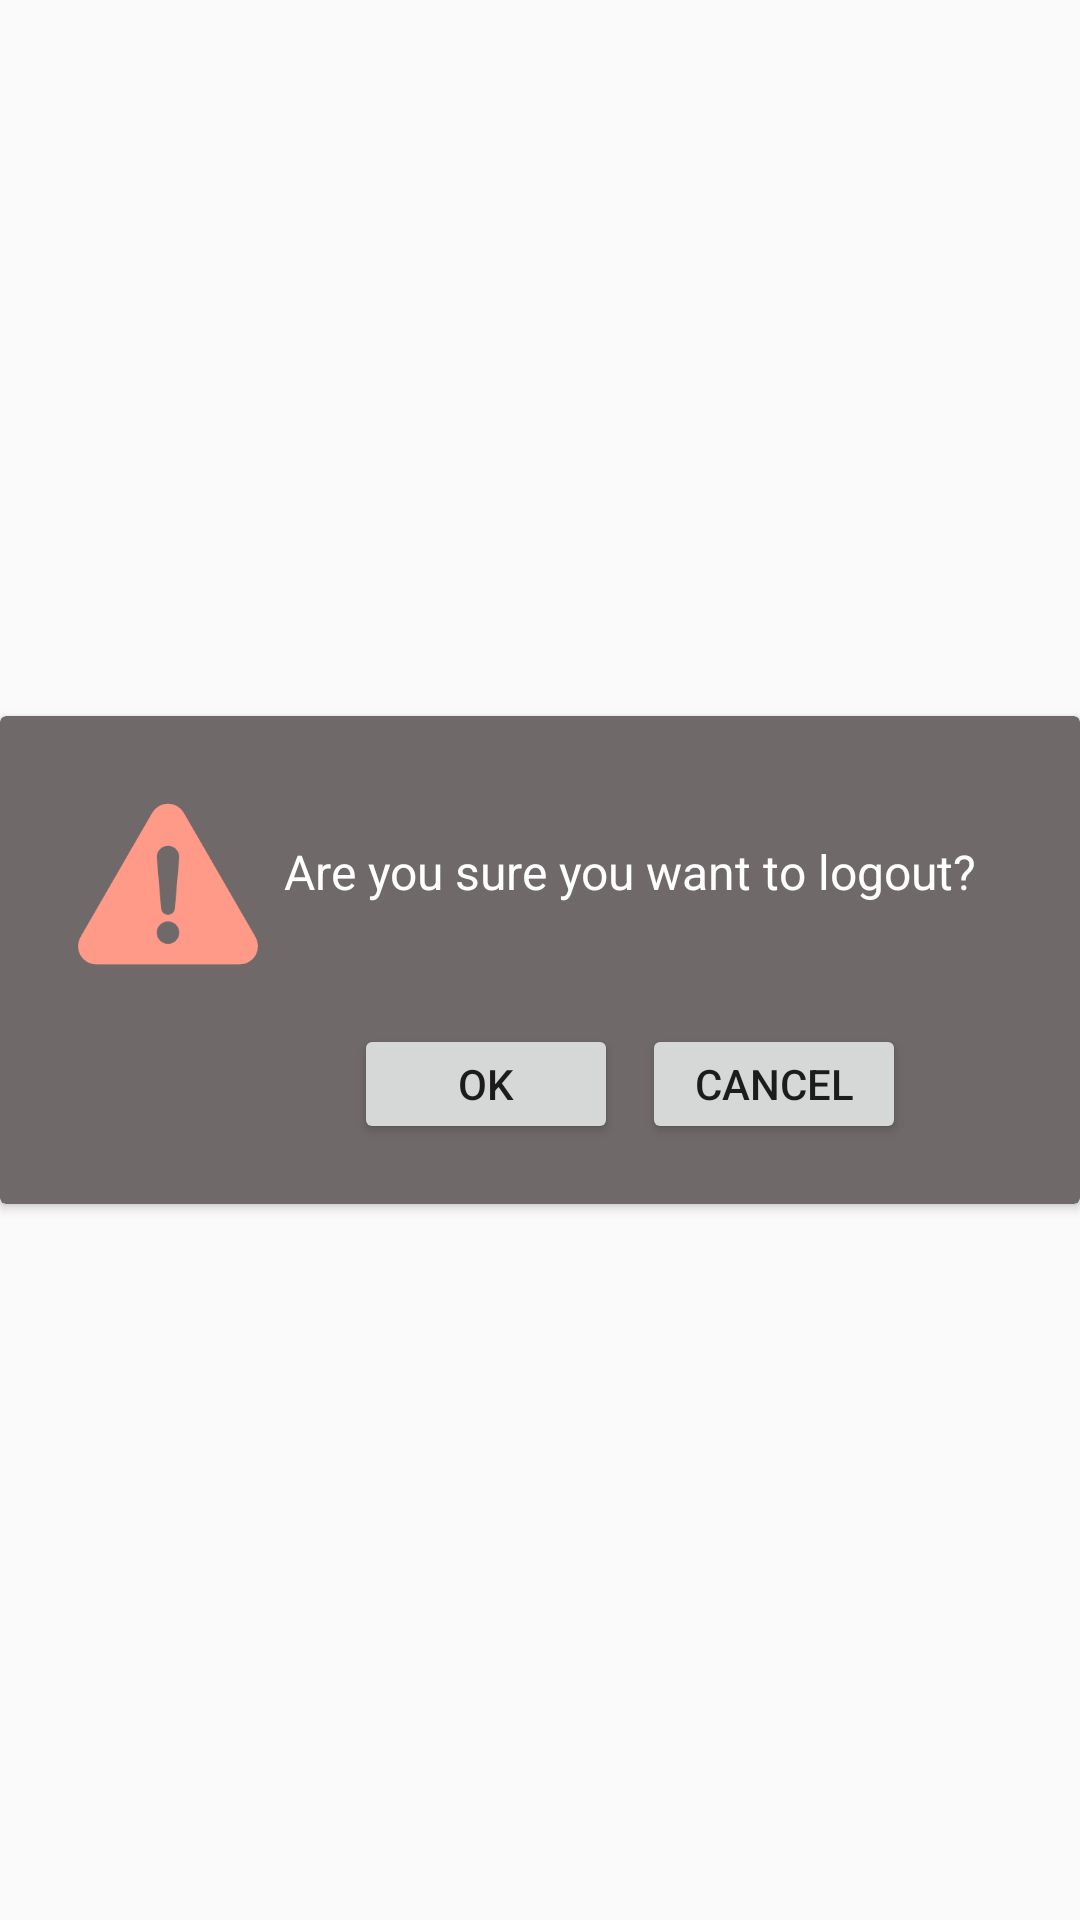

Named icons in this screenshot (1080 × 1920) and their centers, point (x, y):
notification lightorange: point (168, 884)
